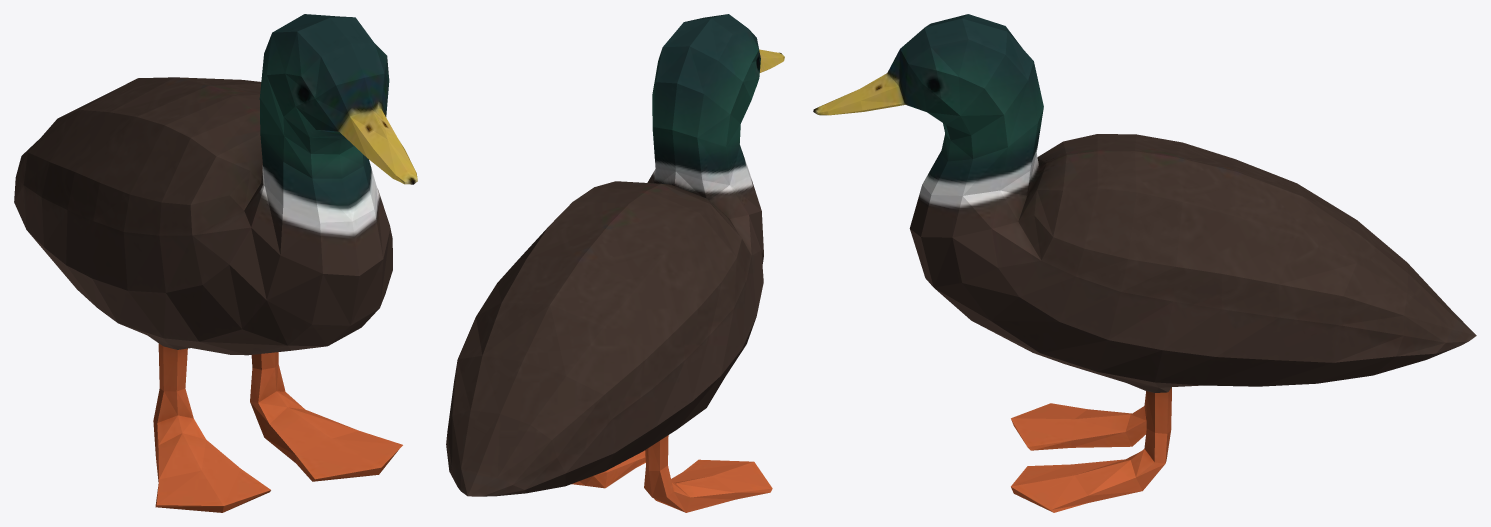
File: duck_mallard.glb
3 views of the same model, side by side, from view 1: azimuth 30°, elevation 25°; view 2: azimuth 150°, elevation 25°; view 3: azimuth 270°, elevation 25° (orthographic). The views are drawn at different scales.
Parts seen in each view (by area): view 1: MallardDuck_Mesh; view 2: MallardDuck_Mesh; view 3: MallardDuck_Mesh.
Part boxes in pixels (box(x1,y1,x2,y2)): MallardDuck_Mesh: box(14, 14, 417, 512); MallardDuck_Mesh: box(446, 14, 784, 512); MallardDuck_Mesh: box(813, 14, 1476, 512).
Bounding box in the file's own units: 0.2119 × 0.4037 × 0.55.
Materials: 1 (1 with a texture image).
